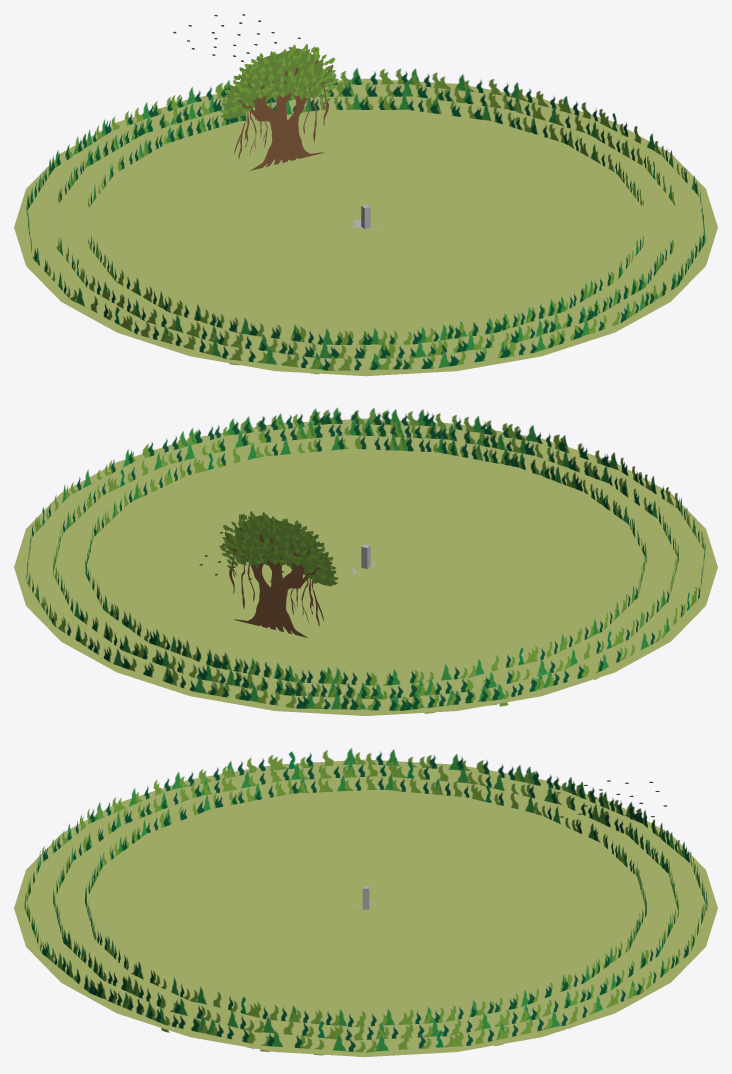
File: banyan_tree_001_26_fyf3.glb
The picture shows the model from 3 angles, top to bottom: view 1: azimuth 30°, elevation 25°; view 2: azimuth 150°, elevation 25°; view 3: azimuth 270°, elevation 25°; orthographic projection.
Parts seen in each view (by area): view 1: pDisc1, pCylinder1, pasted__pCylinder1, pasted__pasted__pCylinder1, pPlane2; view 2: pDisc1, pCylinder1, pasted__pCylinder1, pasted__pasted__pCylinder1, pPlane2; view 3: pDisc1, pCylinder1, pasted__pCylinder1, pasted__pasted__pCylinder1.
Part boxes in pixels (box(x1,y1,x2,y2)): pDisc1: box(14, 78, 717, 376); pCylinder1: box(26, 68, 705, 374); pasted__pCylinder1: box(56, 79, 675, 358); pasted__pasted__pCylinder1: box(88, 93, 643, 344); pPlane2: box(219, 43, 338, 170); pDisc1: box(14, 418, 717, 715); pCylinder1: box(26, 407, 705, 713); pasted__pCylinder1: box(53, 419, 678, 699); pasted__pasted__pCylinder1: box(85, 433, 646, 685); pPlane2: box(219, 511, 338, 637); pDisc1: box(14, 759, 717, 1056); pCylinder1: box(24, 748, 707, 1057); pasted__pCylinder1: box(53, 761, 678, 1040); pasted__pasted__pCylinder1: box(85, 774, 646, 1026).
Size of the model in its own units: 5323 by 1048 by 5323.
31 materials, 28 textured.
